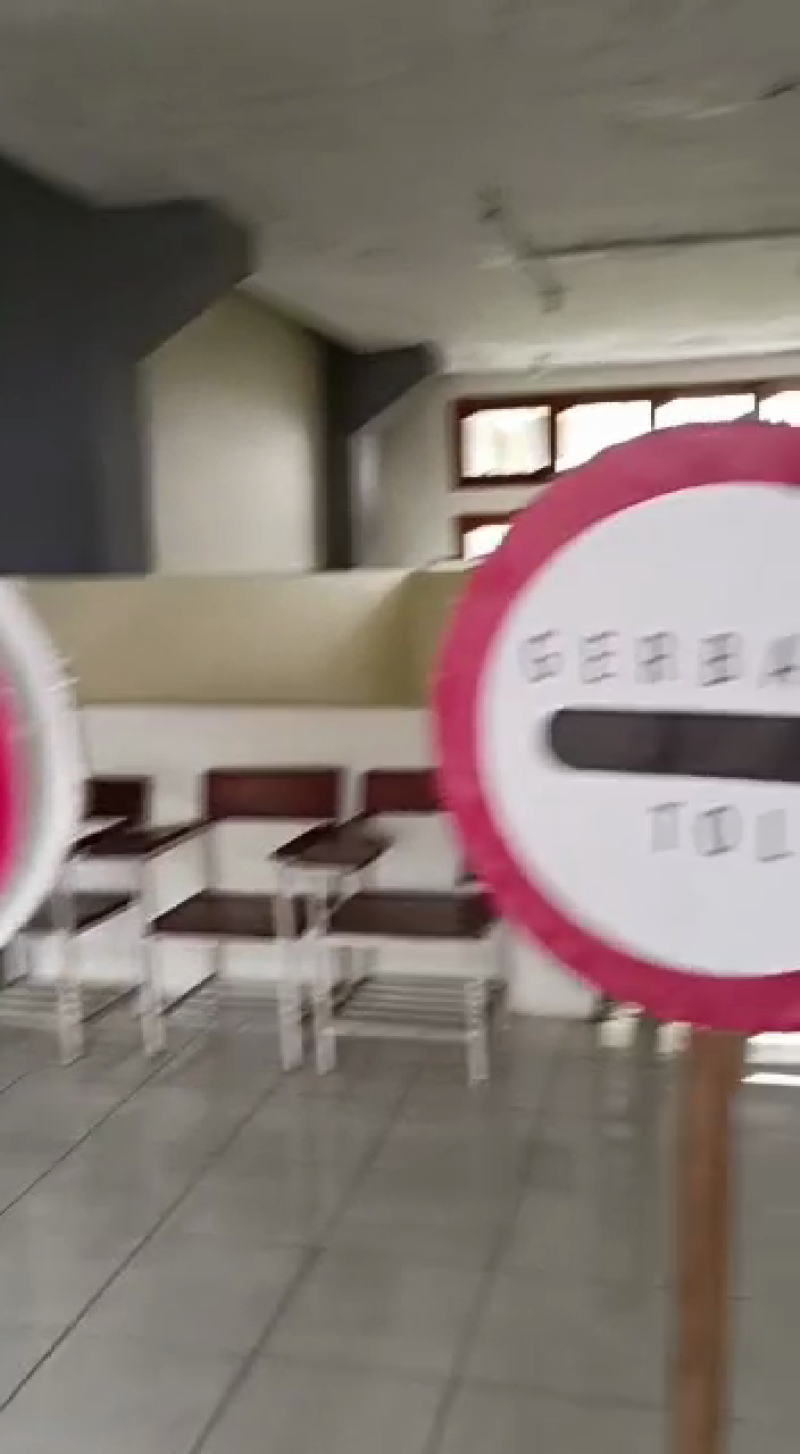gerbang tol: (426, 407, 800, 1103)
